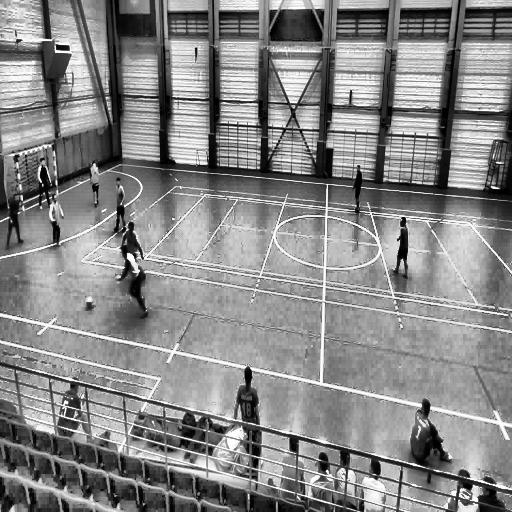ball: (86, 295, 93, 311)
player: (117, 247, 148, 317), (6, 183, 26, 246), (119, 220, 144, 265), (392, 216, 408, 278), (49, 192, 65, 247), (113, 177, 126, 232), (38, 158, 52, 206), (352, 166, 362, 214), (90, 162, 100, 207)
